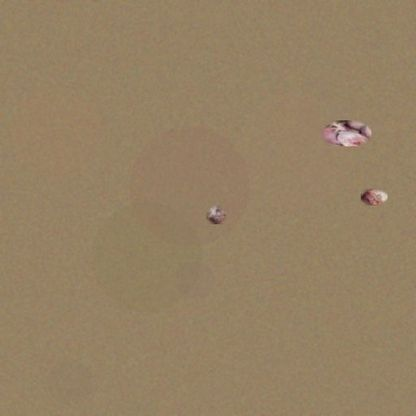rotten: (361, 188, 388, 206), (206, 206, 227, 224)
sprouted: (321, 120, 371, 146)
